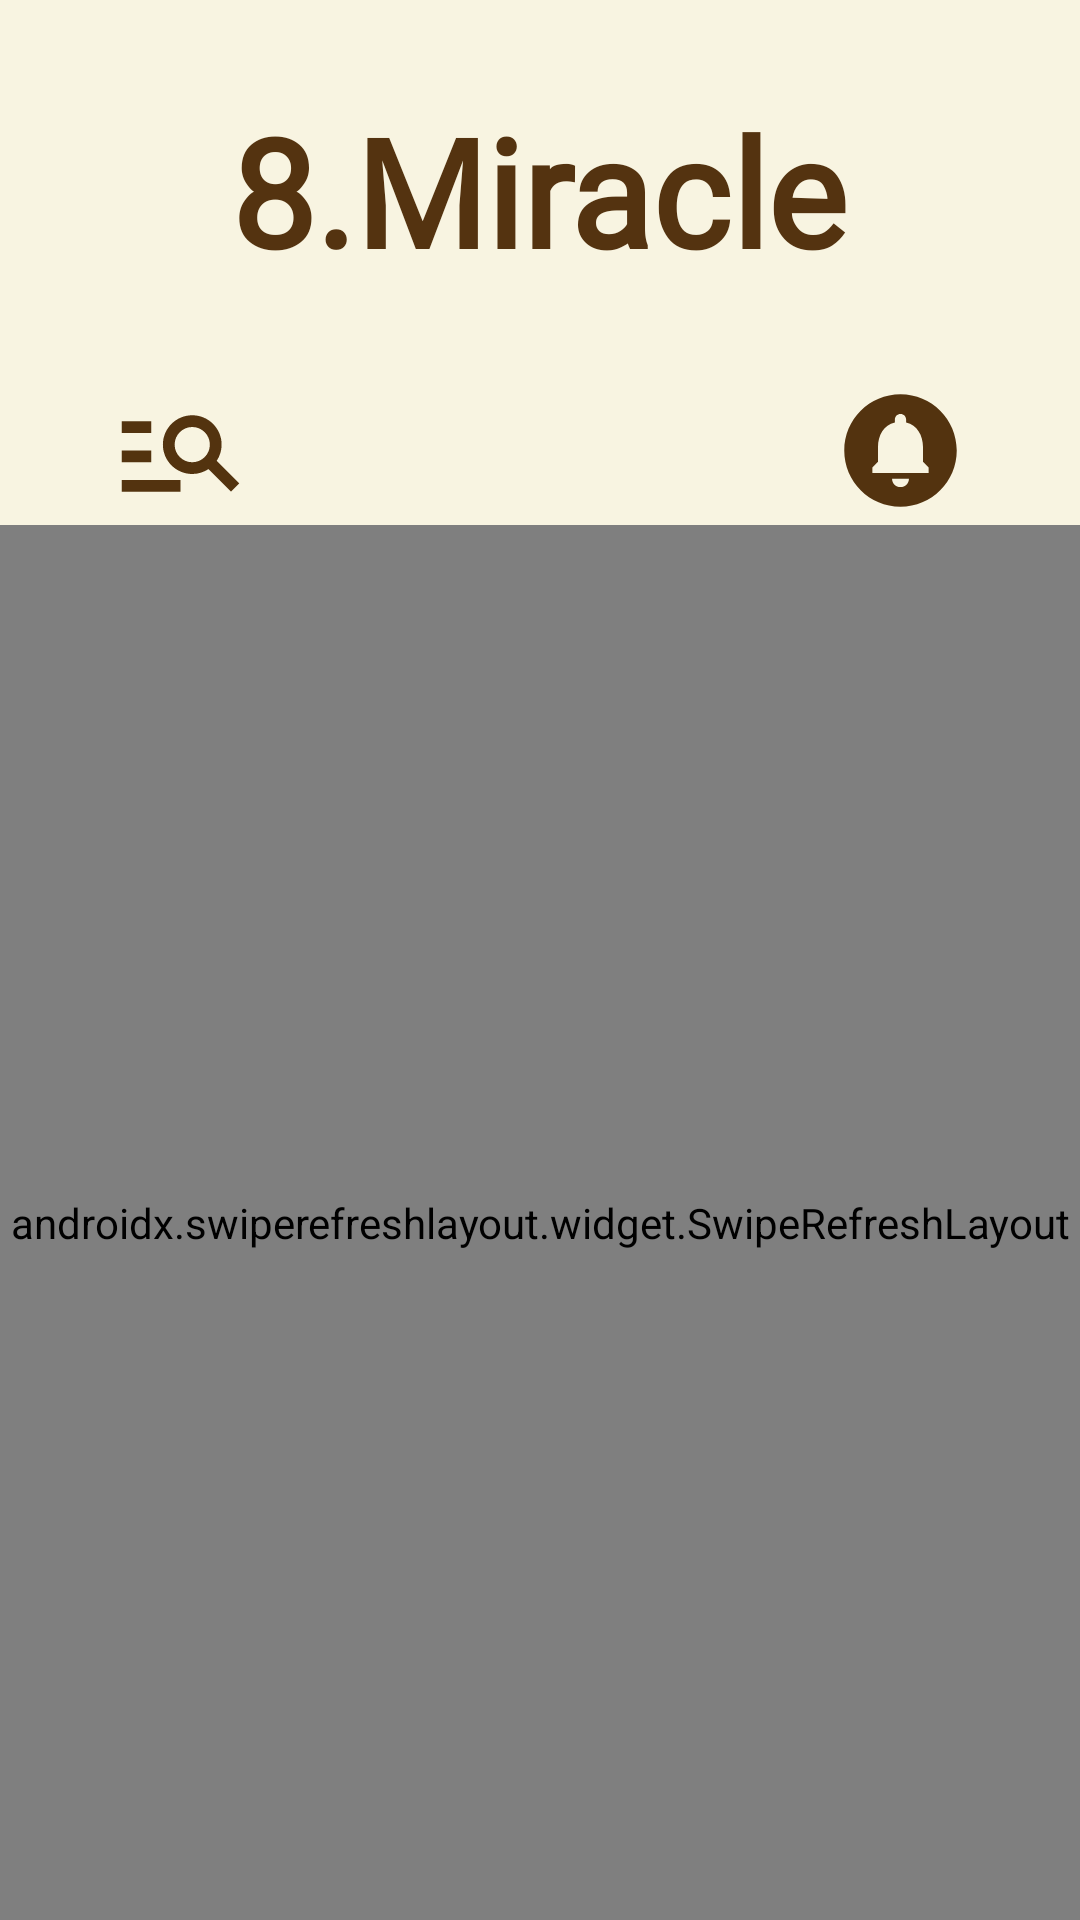

Named icons in this screenshot (1080w x 1920h) and their centers, (x=x, y=y):
Notifi: (x=900, y=450)
Search: (x=180, y=453)
